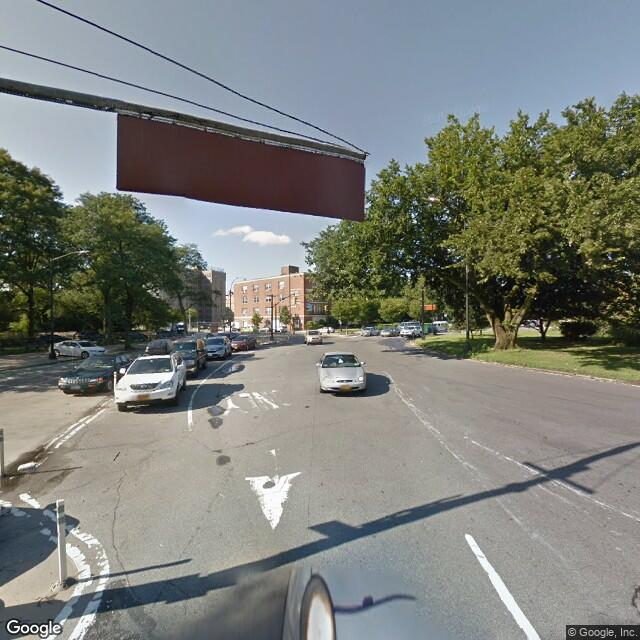litter: (15, 462, 39, 473)
